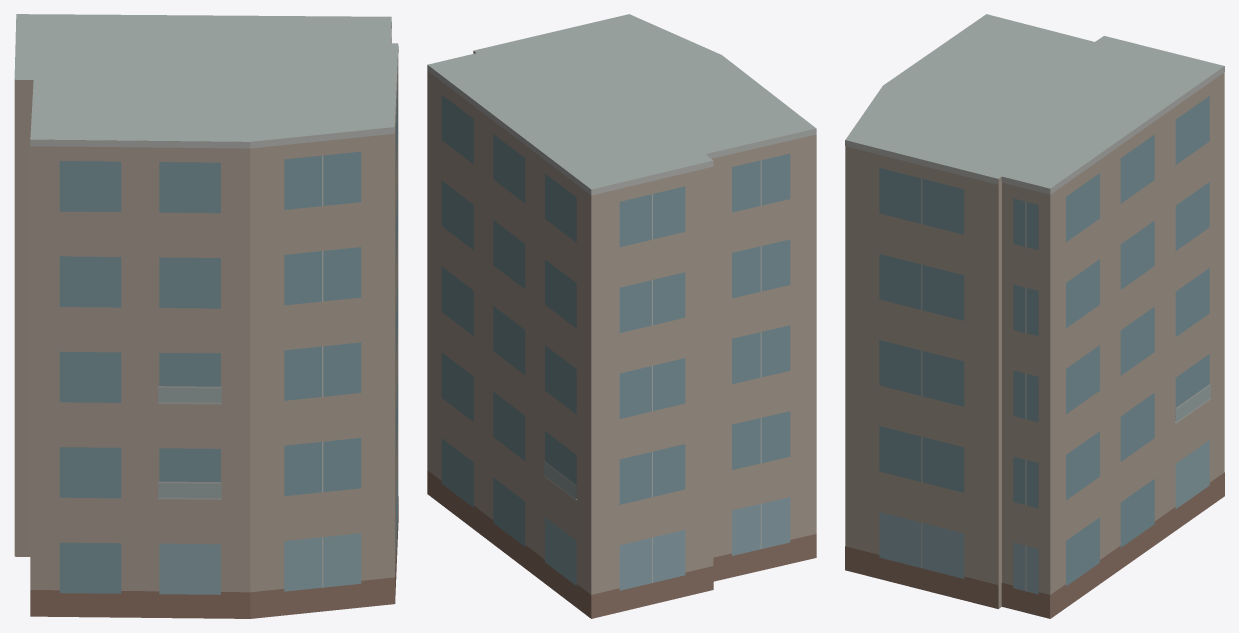
Rendered from survey-upis-33024732.glb.
The picture shows the model from 3 angles, left to right: view 1: azimuth 30°, elevation 25°; view 2: azimuth 150°, elevation 25°; view 3: azimuth 270°, elevation 25°; orthographic projection. The views are drawn at different scales.
Visible parts, largest first — view 1: survey-upis-33024732.tmp; view 2: survey-upis-33024732.tmp; view 3: survey-upis-33024732.tmp.
Part boxes in pixels (x1,y1,x2,y2): survey-upis-33024732.tmp: (14, 14, 398, 618); survey-upis-33024732.tmp: (427, 14, 816, 618); survey-upis-33024732.tmp: (845, 14, 1224, 618).
Bounding box in the file's own units: 15.24 × 17.49 × 14.
